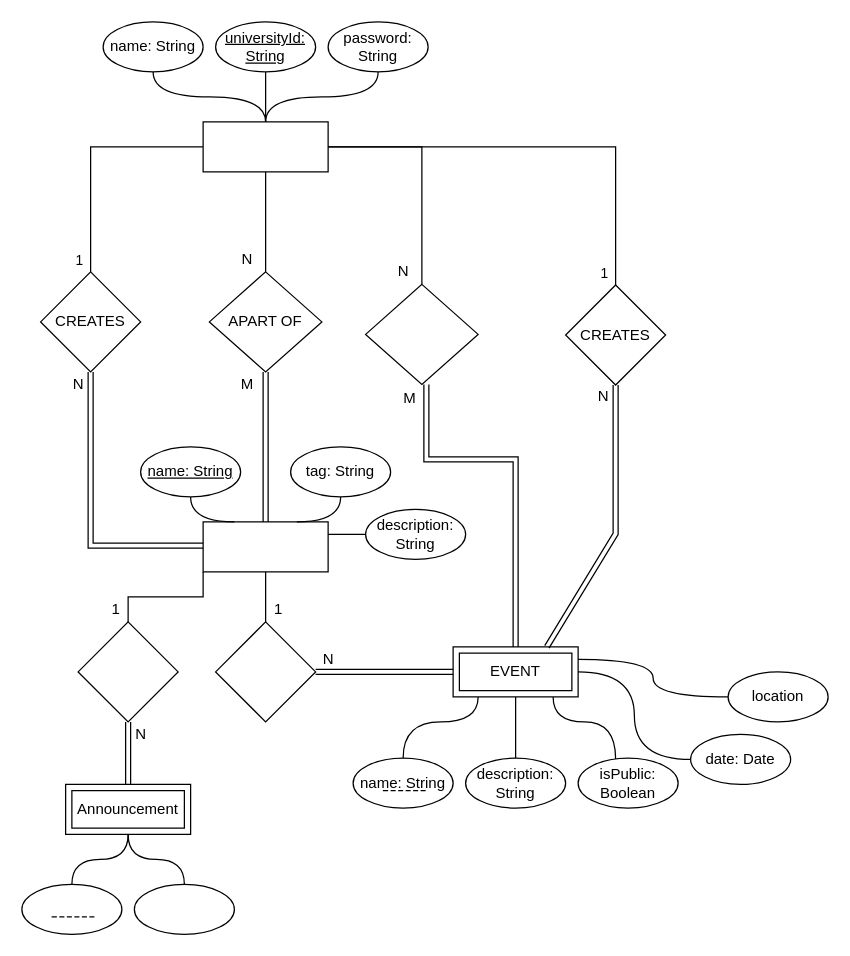
This 850x956 diagram has some shape labels left out. The box of each missing label's shape, as (x1, y1, x2, y2) in pixels:
ATTENDS: (364, 283, 478, 384)
body: String: (133, 883, 234, 934)
CLUB: (202, 521, 328, 572)
HAS: (77, 621, 178, 722)
HAS A: (214, 621, 316, 722)
title: String: (21, 883, 122, 934)
USER: (202, 121, 328, 172)
